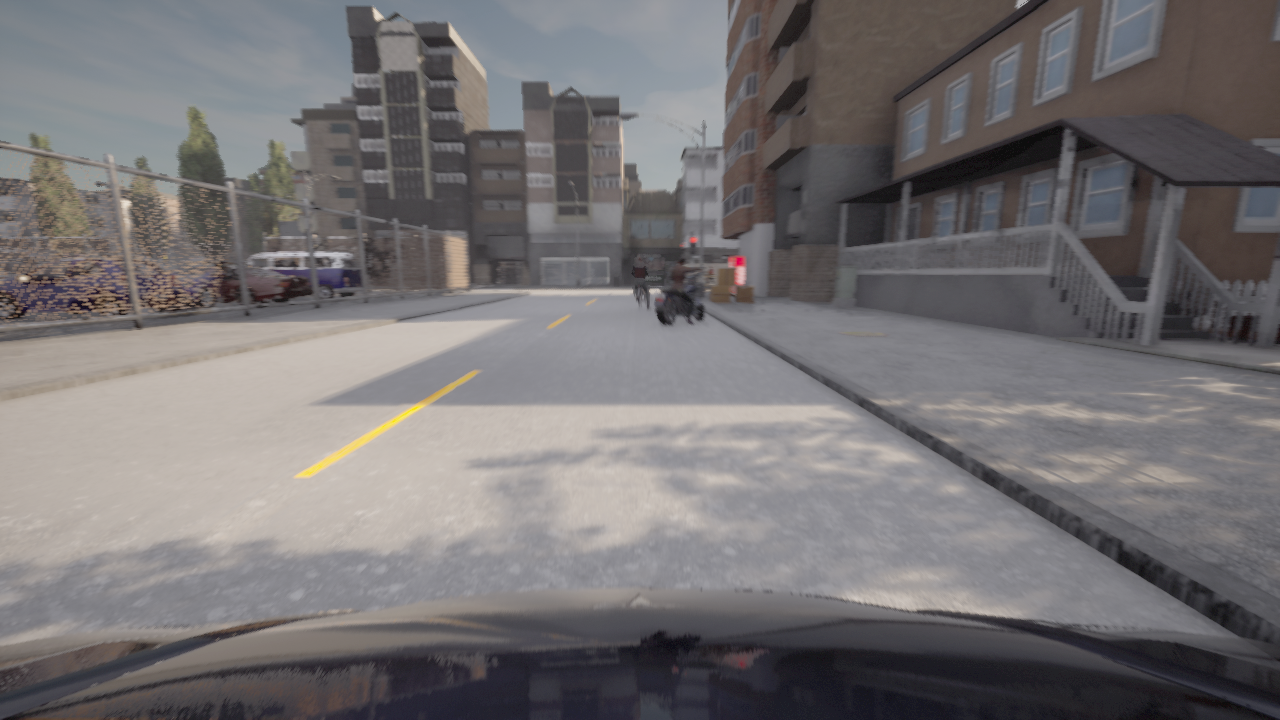cyclist: (0, 588, 1279, 719), (0, 257, 185, 319), (247, 251, 363, 298), (169, 261, 271, 307), (220, 265, 313, 305), (655, 266, 706, 324), (638, 285, 642, 306)
pedestrian: (706, 265, 715, 284)
